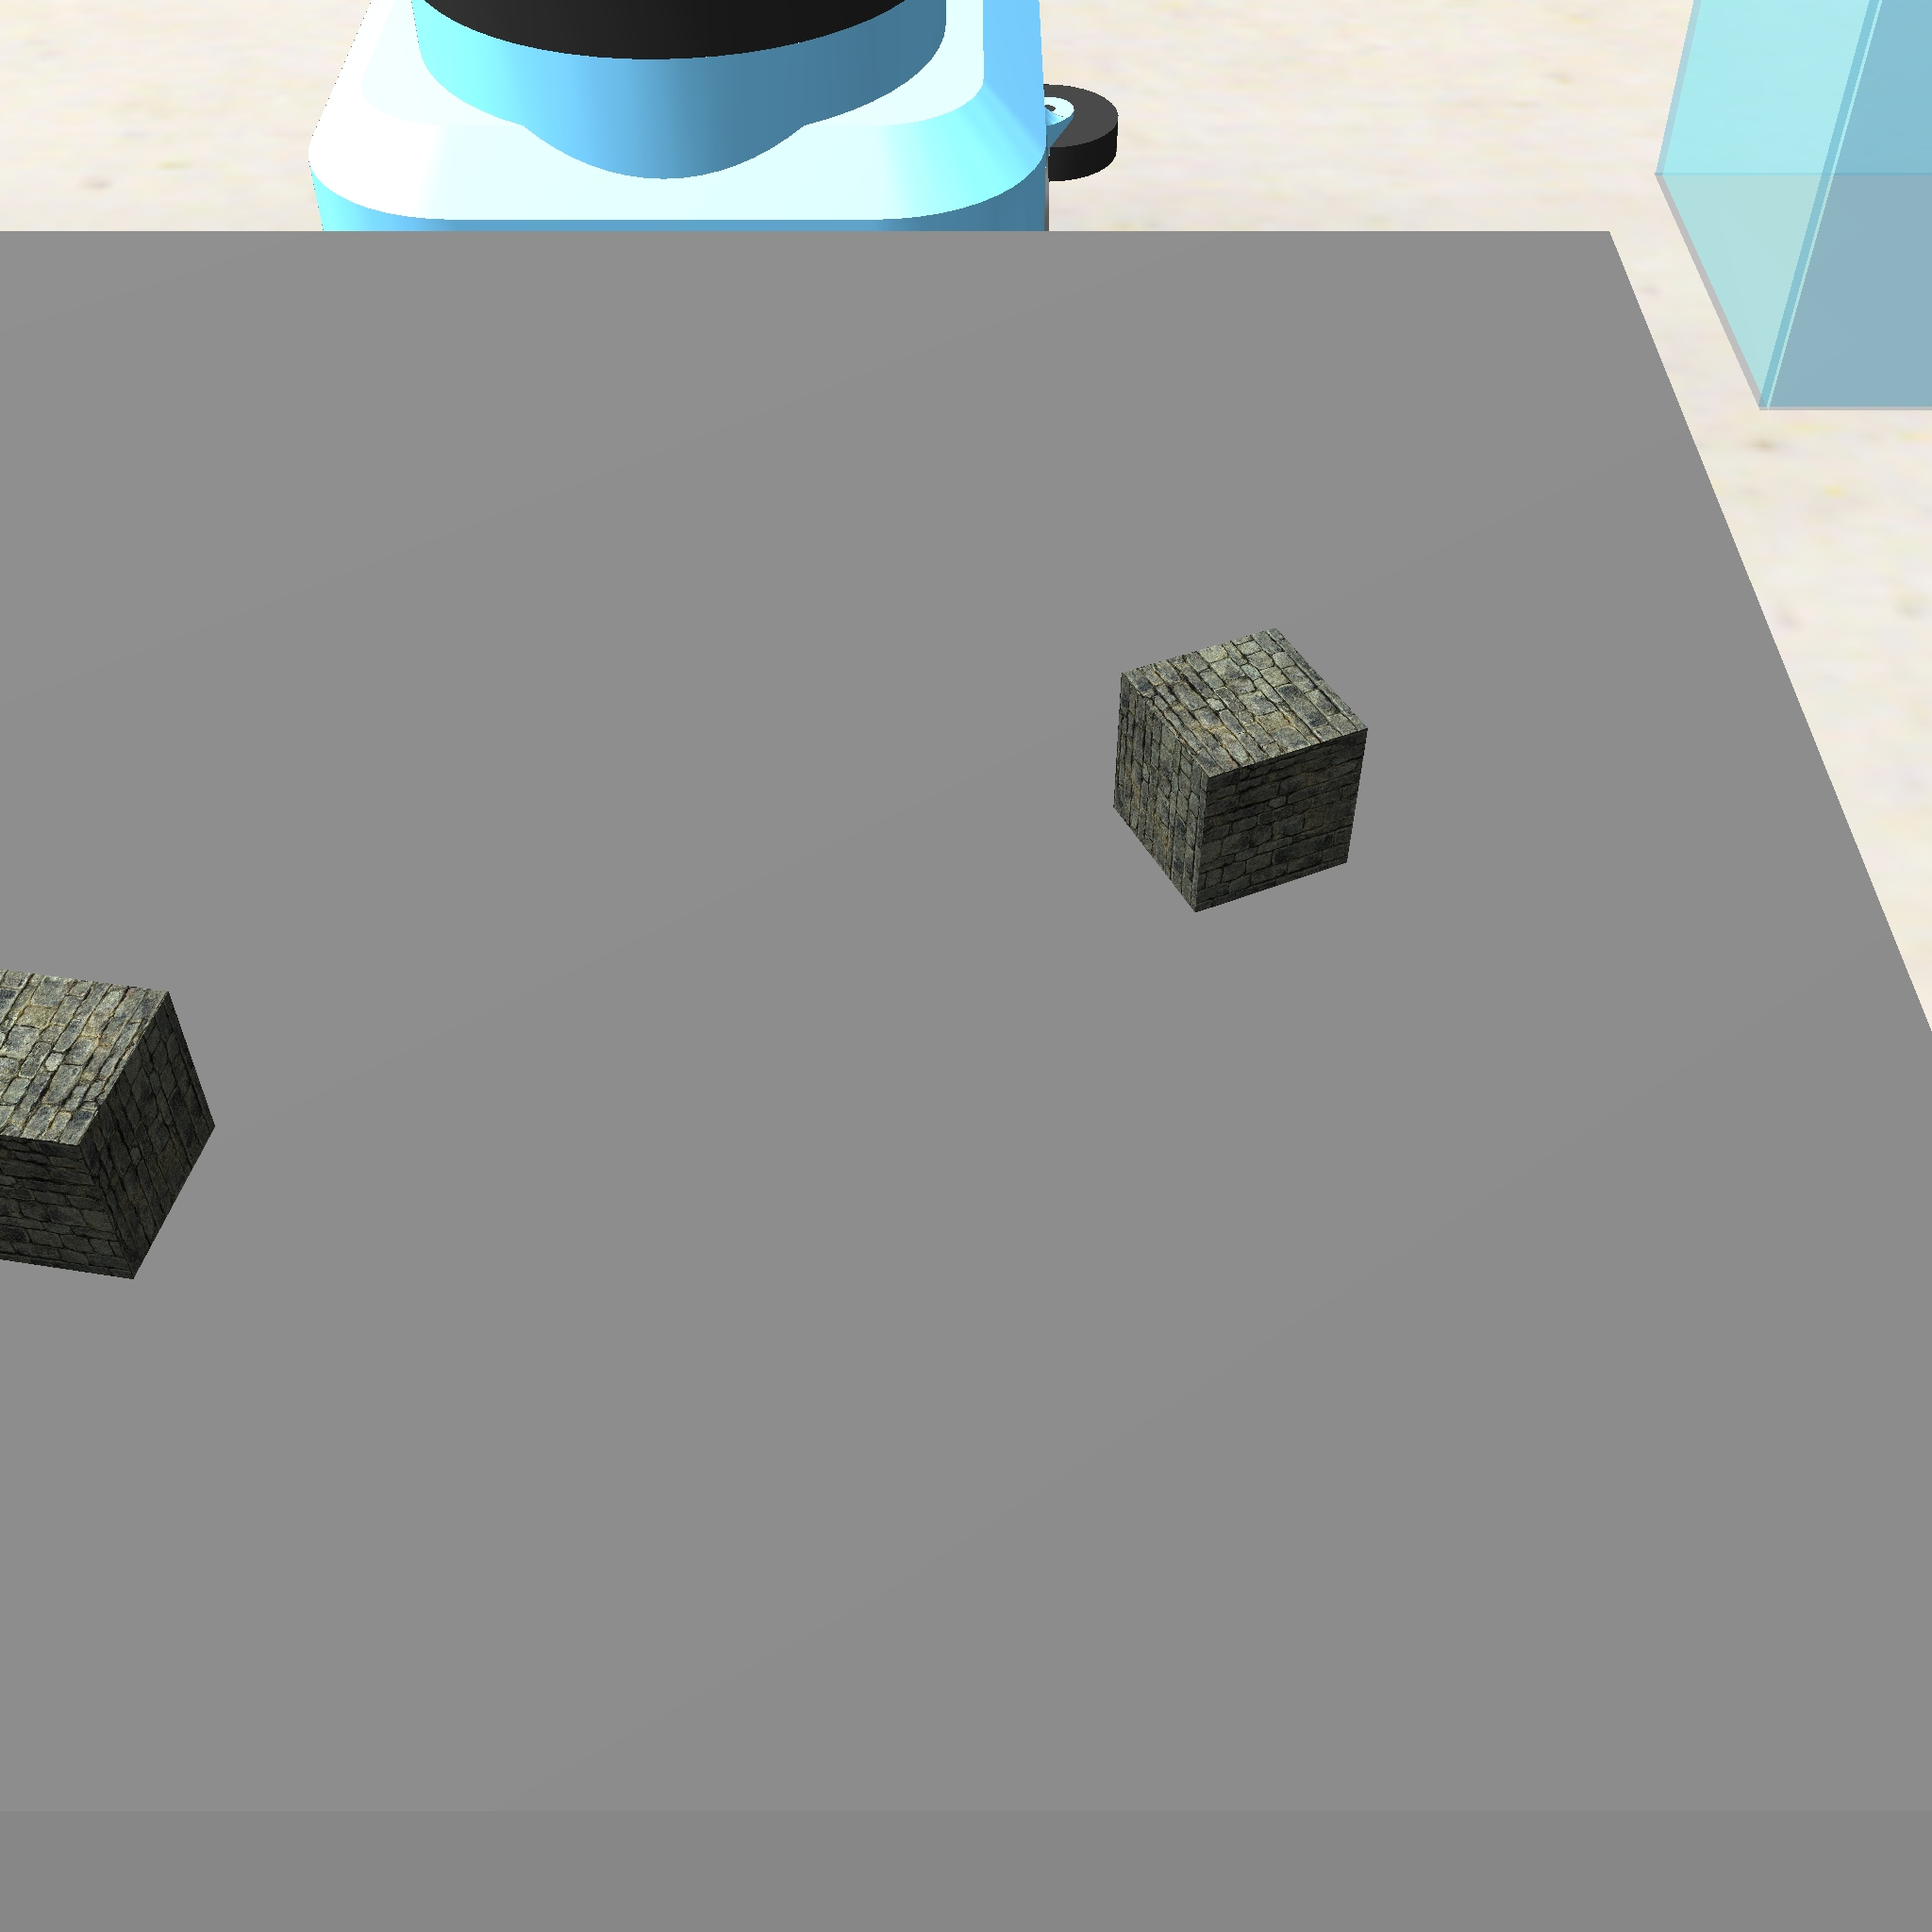cube: (1104, 616, 1376, 922), (0, 954, 232, 1299)
